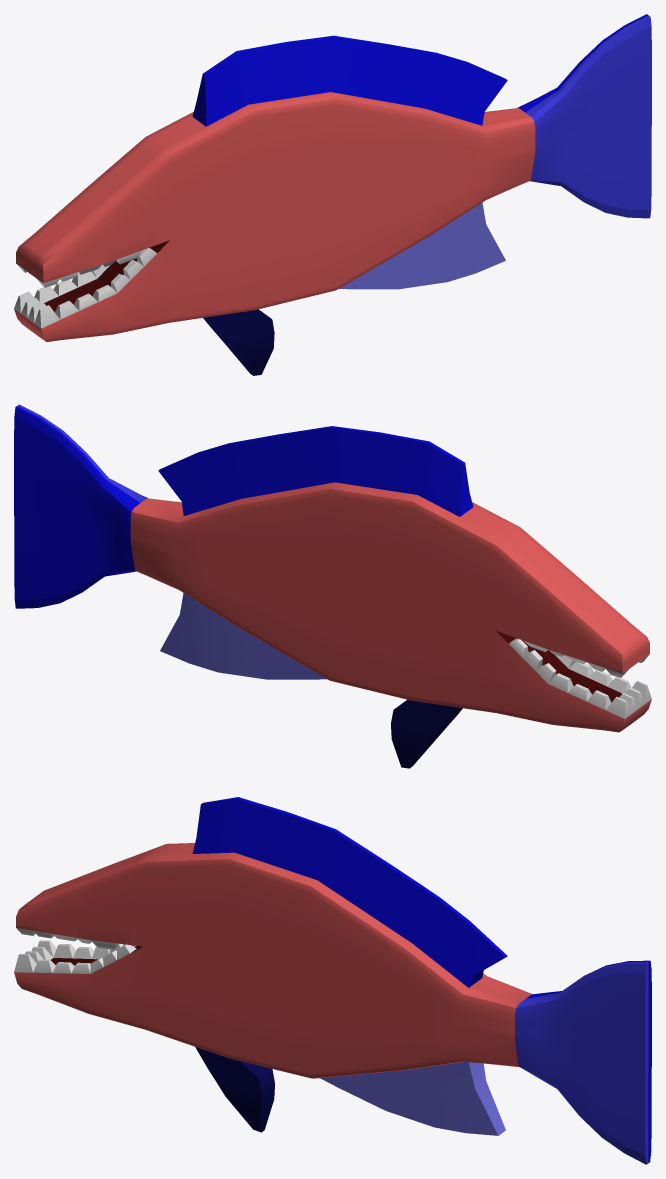
Rendered from GiantSnapper.fbx.
The picture shows the model from 3 angles, top to bottom: view 1: azimuth 30°, elevation 25°; view 2: azimuth 150°, elevation 25°; view 3: azimuth 330°, elevation 25°; orthographic projection.
Parts seen in each view (by area): view 1: FishGroup2; view 2: FishGroup2; view 3: FishGroup2.
Boxes of the visible parts, x1,y1,x2,y2 form: FishGroup2: (14,14,651,375); FishGroup2: (14,404,651,768); FishGroup2: (14,797,651,1164).
Bounding box in the file's own units: 35.12 × 17.81 × 2.66.
